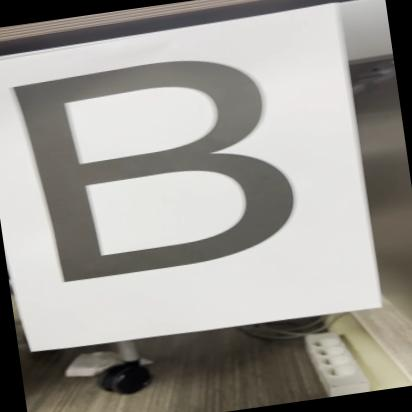seat: (1, 38, 308, 298)
